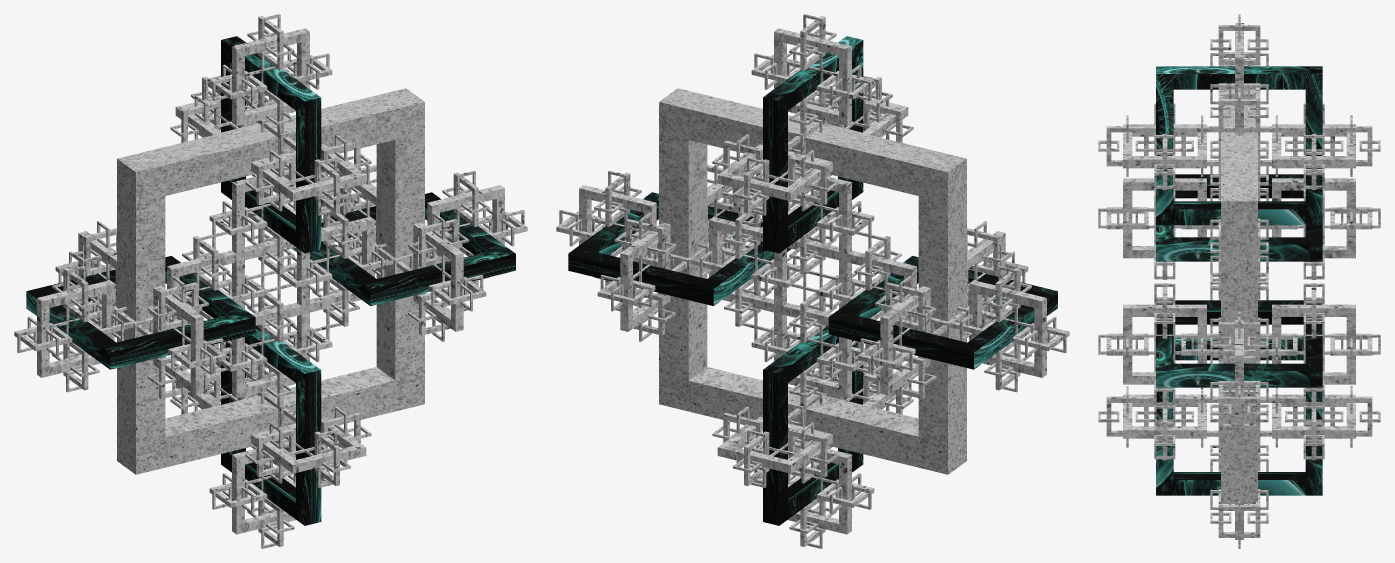
The picture shows the model from 3 angles, left to right: view 1: azimuth 30°, elevation 25°; view 2: azimuth 150°, elevation 25°; view 3: azimuth 270°, elevation 25°; orthographic projection.
Parts seen in each view (by area): view 1: Cube, Cube.002; view 2: Cube, Cube.002; view 3: Cube, Cube.002.
Part boxes in pixels (x1,y1,x2,y2): Cube: [14, 14, 527, 548]; Cube.002: [26, 36, 515, 525]; Cube: [556, 14, 1069, 548]; Cube.002: [568, 36, 1057, 525]; Cube: [1098, 14, 1380, 548]; Cube.002: [1156, 66, 1322, 495].
Bounding box in the file's own units: 0.6484 × 0.6484 × 0.3151.
2 materials, 2 textured.
